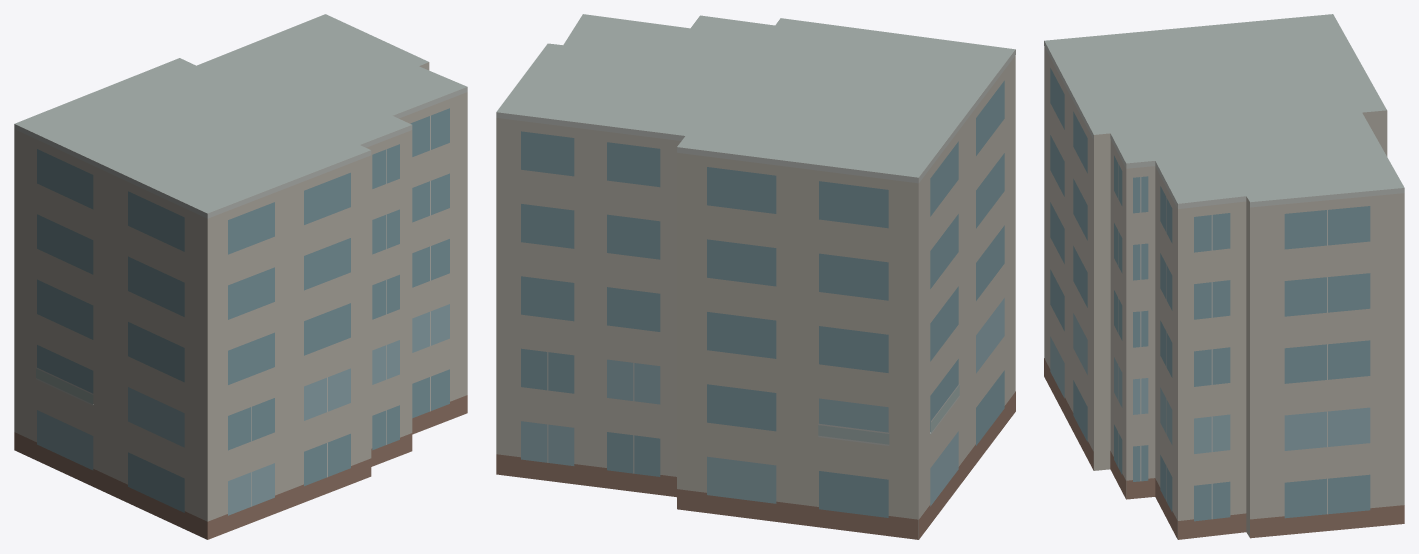
File: survey-upis-32681640.glb
3 renders of one model, left to right at view 1: azimuth 30°, elevation 25°; view 2: azimuth 150°, elevation 25°; view 3: azimuth 270°, elevation 25°, orthographic. The views are drawn at different scales.
Visible parts, largest first — view 1: survey-upis-32681640.tmp; view 2: survey-upis-32681640.tmp; view 3: survey-upis-32681640.tmp.
Boxes of the visible parts, left/top/right/bottom form: survey-upis-32681640.tmp: left=14, top=14, right=467, bottom=539; survey-upis-32681640.tmp: left=496, top=14, right=1015, bottom=539; survey-upis-32681640.tmp: left=1044, top=14, right=1404, bottom=539.
Bounding box in the file's own units: 18.86 × 15.55 × 15.13.
